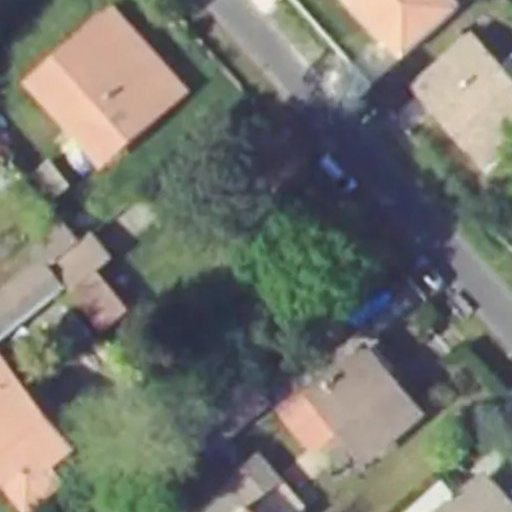pool: (345, 287, 403, 327)
